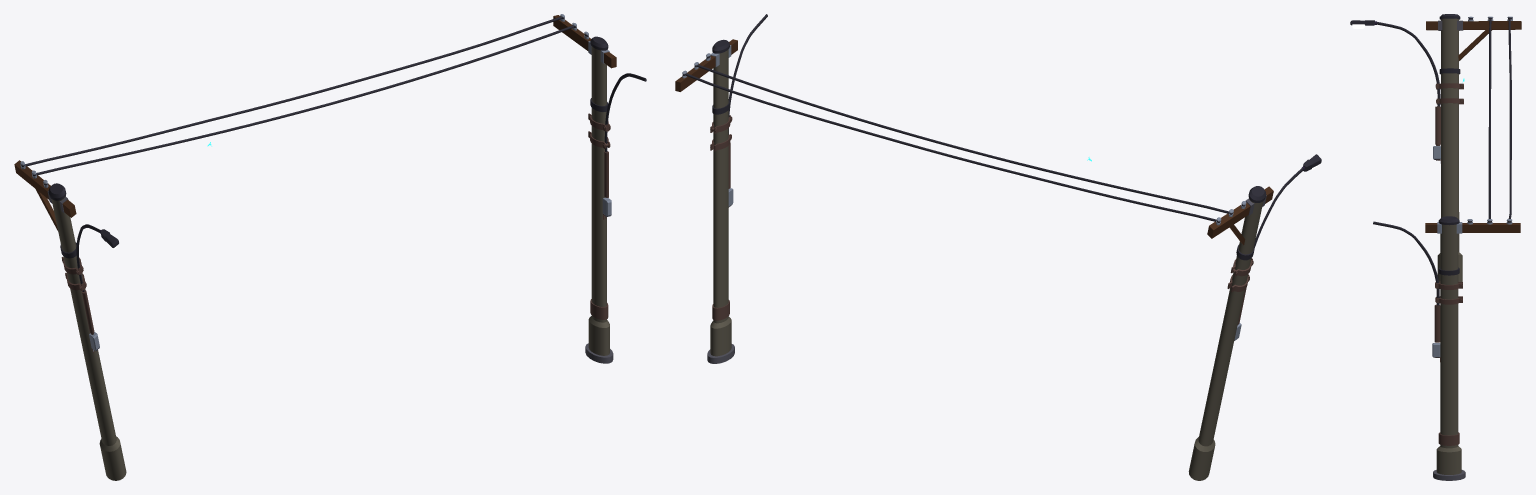
The model's file is poleacross.glb.
3 renders of one model, left to right at view 1: azimuth 30°, elevation 25°; view 2: azimuth 150°, elevation 25°; view 3: azimuth 270°, elevation 25°, orthographic. The views are drawn at different scales.
Parts seen in each view (by area): view 1: pCylinder89_lambert46_0.001, polySurface189_lambert46_0.001, polySurface248_black_0.001, wireShape6_black_0.001, polySurface186_lambert46_0.001, pCylinder87_lambert46_0.001; view 2: pCylinder89_lambert46_0.001, polySurface189_lambert46_0.001, polySurface248_black_0.001, wireShape6_black_0.001, polySurface186_lambert46_0.001, pCylinder87_lambert46_0.001, polySurface484_dark_brown_boot_0.001; view 3: pCylinder89_lambert46_0.001, polySurface189_lambert46_0.001, polySurface520_dark_brown_boot_0.001, pCylinder87_lambert46_0.001, polySurface484_dark_brown_boot_0.001, wireShape6_black_0.001, polySurface248_black_0.001, polySurface173_black_0.001, polySurface199_black_0.001, polySurface510_rust_metal_0.001, pCylinder105_rust_metal_0.001, pCylinder88_asphalt_0.001 (+3 smaller).
Part boxes in pixels (<box>): pCylinder89_lambert46_0.001: <box>591,46,606,322</box>; polySurface189_lambert46_0.001: <box>51,196,116,445</box>; polySurface248_black_0.001: <box>36,25,573,175</box>; wireShape6_black_0.001: <box>24,16,561,166</box>; polySurface186_lambert46_0.001: <box>99,436,126,480</box>; pCylinder87_lambert46_0.001: <box>588,316,609,355</box>; pCylinder89_lambert46_0.001: <box>713,49,728,323</box>; polySurface189_lambert46_0.001: <box>1198,199,1263,446</box>; polySurface248_black_0.001: <box>697,64,1229,213</box>; wireShape6_black_0.001: <box>685,73,1216,221</box>; polySurface186_lambert46_0.001: <box>1188,437,1215,480</box>; pCylinder87_lambert46_0.001: <box>710,316,731,356</box>; polySurface484_dark_brown_boot_0.001: <box>1207,186,1273,238</box>; pCylinder89_lambert46_0.001: <box>1440,224,1458,448</box>; polySurface189_lambert46_0.001: <box>1441,18,1459,251</box>; polySurface520_dark_brown_boot_0.001: <box>1425,223,1520,232</box>; pCylinder87_lambert46_0.001: <box>1436,446,1461,474</box>; polySurface484_dark_brown_boot_0.001: <box>1426,21,1521,30</box>; wireShape6_black_0.001: <box>1508,19,1511,218</box>; polySurface248_black_0.001: <box>1488,19,1491,218</box>; polySurface173_black_0.001: <box>1373,221,1439,305</box>; polySurface199_black_0.001: <box>1376,22,1440,106</box>; polySurface510_rust_metal_0.001: <box>1434,304,1440,342</box>; pCylinder105_rust_metal_0.001: <box>1438,432,1459,445</box>; pCylinder88_asphalt_0.001: <box>1433,470,1465,480</box>.
Size of the model in its own units: 17.32 by 9.49 by 5.62.
